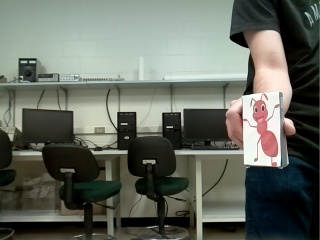Happy: (242, 93, 280, 167)
